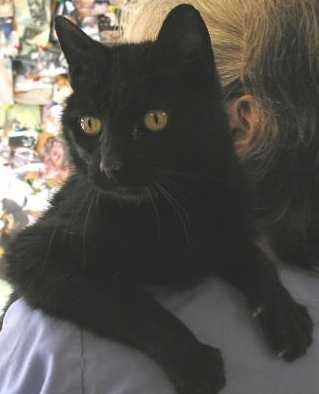Cat: (31, 4, 318, 385)
